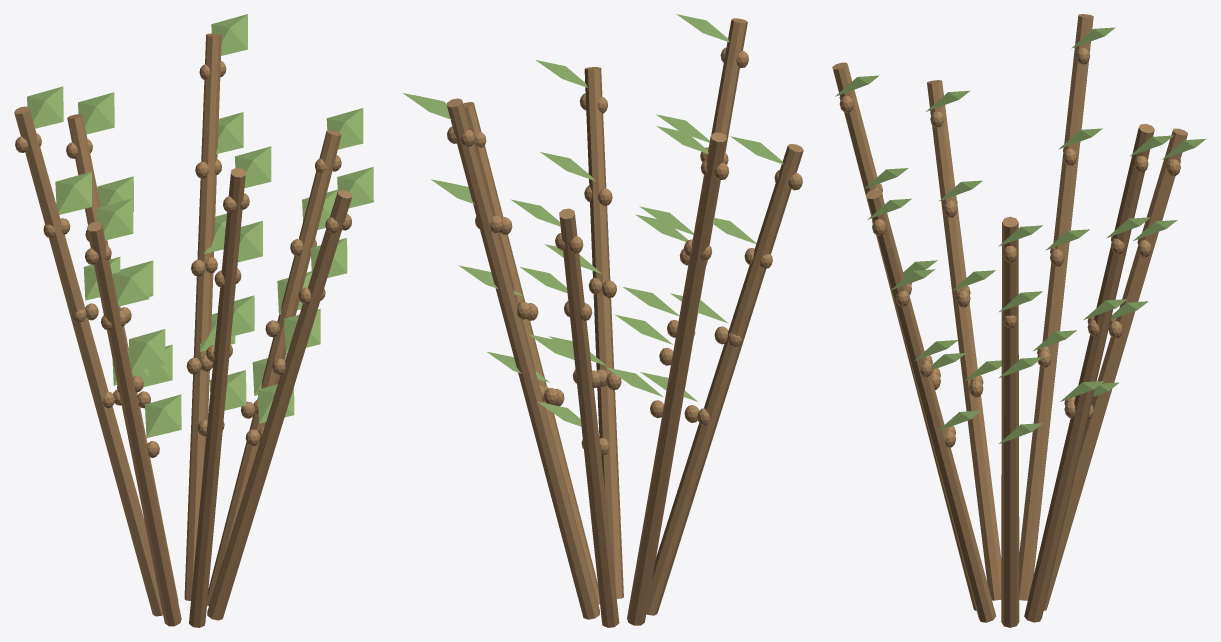
3 renders of one model, left to right at view 1: azimuth 30°, elevation 25°; view 2: azimuth 150°, elevation 25°; view 3: azimuth 270°, elevation 25°, orthographic. The views are drawn at different scales.
Visible parts, largest first — view 1: GF-158 Coppiced hazel nut stool batched; view 2: GF-158 Coppiced hazel nut stool batched; view 3: GF-158 Coppiced hazel nut stool batched.
Part boxes in pixels (box(x1,y1,x2,y2)): GF-158 Coppiced hazel nut stool batched: box(14, 14, 373, 627); GF-158 Coppiced hazel nut stool batched: box(403, 14, 803, 627); GF-158 Coppiced hazel nut stool batched: box(832, 14, 1206, 627).
Size of the model in its own units: 1.07 by 1.62 by 1.03.
